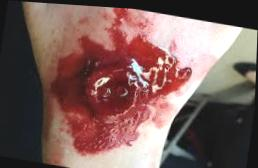Fire: (44, 6, 192, 166)
